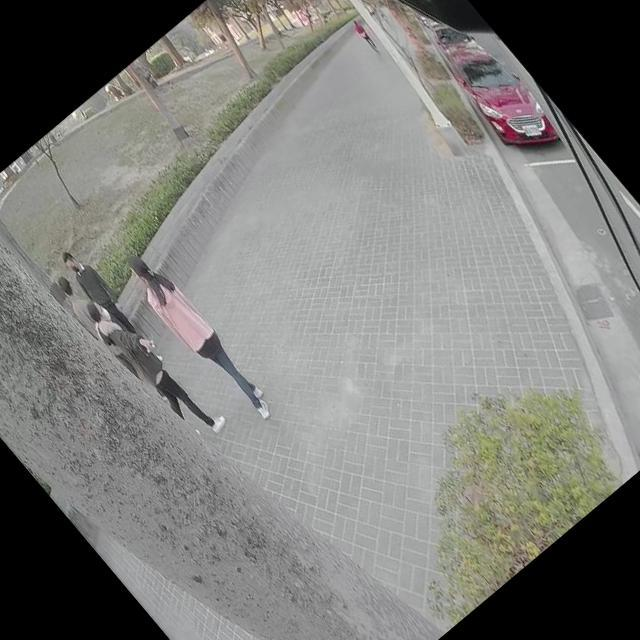person: (115, 244, 278, 428), (79, 282, 227, 447), (56, 244, 135, 332), (51, 274, 105, 334)
